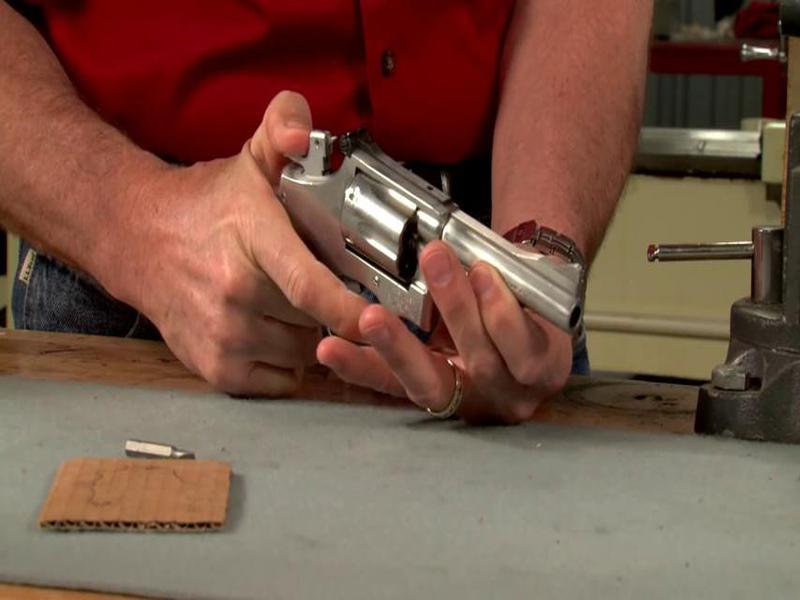Revolver: (178, 72, 611, 412)
